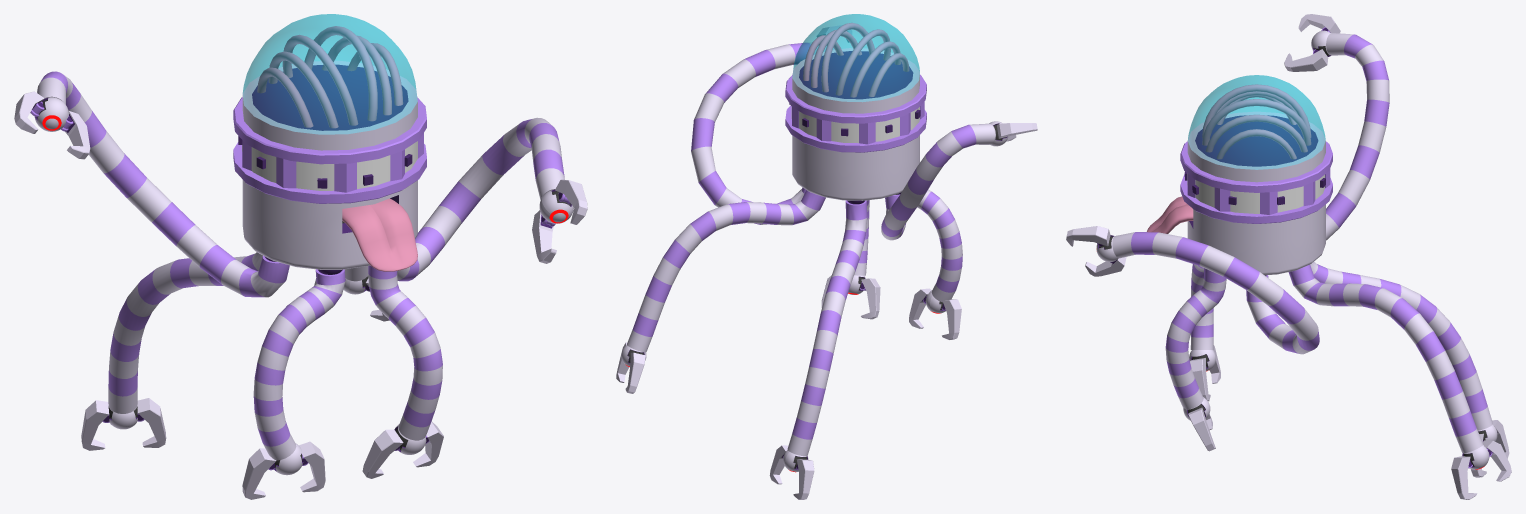
The model's file is Lickquidator_Soldier_Posed.fbx.
3 views of the same model, side by side, from view 1: azimuth 30°, elevation 25°; view 2: azimuth 150°, elevation 25°; view 3: azimuth 270°, elevation 25° (orthographic). The views are drawn at different scales.
Visible parts, largest first — view 1: body_yell, body_dome, pCylinder26, visor, pCylinder29, brains, pCylinder25, pCylinder27, pCylinder24, pincer1 (×5), pincer2 (×5), tongue1 (+3 smaller); view 2: body_yell, body_dome, pCylinder28, pCylinder27, pCylinder29, visor, pCylinder26, brains, pCylinder25, pincer1 (×4), dividers, pincer2 (×2); view 3: body_yell, body_dome, pCylinder29, pCylinder28, visor, pCylinder26, brains, pCylinder27, pCylinder24, pincer2 (×4), pincer1 (×3), dividers (+2 smaller).
Boxes of the visible parts, x1,y1,x2,y2 form: body_yell: (242, 60, 417, 269); body_dome: (242, 14, 417, 134); pCylinder26: (37, 71, 289, 297); visor: (233, 97, 426, 203); pCylinder29: (397, 117, 564, 281); brains: (257, 26, 403, 128); pCylinder25: (253, 269, 345, 460); pCylinder27: (108, 252, 262, 413); pCylinder24: (368, 265, 442, 440); pincer1 (×5): (14, 91, 587, 499); pincer2 (×5): (65, 111, 556, 492); tongue1: (342, 198, 417, 271); body_yell: (792, 48, 919, 200); body_dome: (792, 14, 919, 101); pCylinder28: (627, 190, 825, 352); pCylinder27: (787, 200, 867, 456); pCylinder29: (691, 43, 826, 224); visor: (785, 74, 926, 152); pCylinder26: (881, 123, 994, 240); brains: (803, 23, 909, 97); pCylinder25: (917, 189, 962, 302); pincer1 (×4): (793, 123, 1037, 499); dividers: (792, 101, 924, 144); pincer2 (×2): (625, 288, 931, 393); body_yell: (1187, 111, 1325, 275); body_dome: (1188, 75, 1325, 169); pCylinder29: (1112, 232, 1319, 354); pCylinder28: (1288, 264, 1483, 453); visor: (1180, 141, 1332, 223); pCylinder26: (1326, 33, 1389, 240); brains: (1202, 84, 1311, 159); pCylinder27: (1310, 261, 1492, 430); pCylinder24: (1165, 268, 1226, 409); pincer2 (×4): (1085, 49, 1511, 481); pincer1 (×3): (1066, 14, 1477, 499); dividers: (1187, 169, 1330, 214).
Size of the model in its own units: 3.16 by 3.22 by 3.17.
